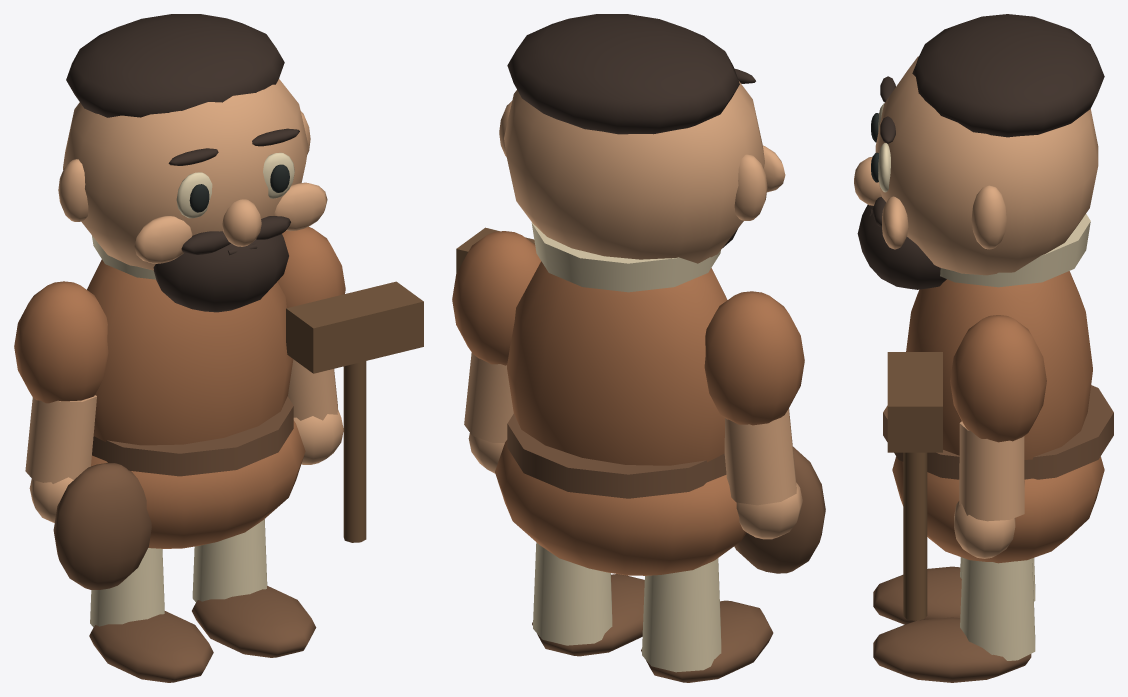
The model's file is character_asa.glb.
The picture shows the model from 3 angles, left to right: view 1: azimuth 30°, elevation 25°; view 2: azimuth 150°, elevation 25°; view 3: azimuth 270°, elevation 25°; orthographic projection. The views are drawn at different scales.
Parts seen in each view (by area): view 1: batch_asa_0, batch_asa_2, batch_asa_3, batch_asa_5, batch_asa_6, batch_arm_left_0, batch_arm_left_1, batch_leg_left_1, batch_leg_right_1, batch_leg_right_0, batch_arm_right_1, batch_arm_right_0 (+3 smaller); view 2: batch_asa_0, batch_asa_2, batch_asa_3, batch_asa_5, batch_arm_left_0, batch_arm_right_0, batch_arm_left_1, batch_leg_left_0, batch_leg_right_0, batch_asa_1, batch_arm_right_1, batch_leg_left_1 (+1 smaller); view 3: batch_asa_2, batch_asa_0, batch_asa_3, batch_asa_6, batch_arm_right_0, batch_arm_right_1, batch_leg_right_0, batch_leg_right_1, batch_asa_5, batch_asa_1, batch_leg_left_1, batch_asa_4.
Boxes of the visible parts, x1,y1,x2,y2 form: batch_asa_0: (87, 259, 305, 548); batch_asa_2: (58, 79, 327, 270); batch_asa_3: (66, 14, 299, 312); batch_asa_5: (53, 396, 293, 589); batch_asa_6: (286, 281, 423, 542); batch_arm_left_0: (14, 281, 108, 403); batch_arm_left_1: (25, 395, 96, 522); batch_leg_left_1: (89, 611, 213, 682); batch_leg_right_1: (192, 585, 316, 657); batch_leg_right_0: (192, 519, 267, 602); batch_arm_right_1: (288, 359, 343, 464); batch_arm_right_0: (277, 227, 345, 307); batch_asa_0: (495, 261, 746, 575); batch_asa_2: (499, 81, 785, 263); batch_asa_3: (507, 14, 755, 247); batch_asa_5: (507, 413, 825, 573); batch_arm_left_0: (704, 291, 804, 425); batch_arm_right_0: (452, 231, 540, 365); batch_arm_left_1: (724, 408, 802, 539); batch_leg_left_0: (642, 558, 721, 672); batch_leg_right_0: (533, 542, 612, 645); batch_asa_1: (531, 222, 720, 292); batch_arm_right_1: (464, 352, 513, 473); batch_leg_left_1: (641, 600, 773, 682); batch_asa_2: (854, 56, 1098, 275); batch_asa_0: (892, 271, 1104, 563); batch_asa_3: (857, 14, 1104, 289); batch_asa_6: (887, 352, 942, 620); batch_arm_right_0: (950, 315, 1046, 442); batch_arm_right_1: (954, 421, 1024, 558); batch_leg_right_0: (960, 558, 1035, 660); batch_leg_right_1: (873, 617, 1031, 682); batch_asa_5: (883, 385, 1113, 479); batch_asa_1: (878, 103, 1090, 287); batch_leg_left_1: (873, 566, 961, 624); batch_asa_4: (871, 113, 878, 182).
Size of the model in its own units: 0.885 by 1.46 by 0.5628.
